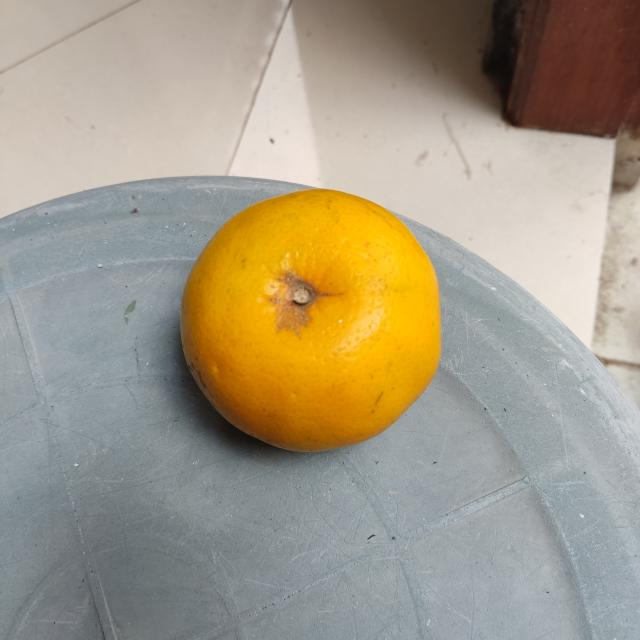orange: (176, 185, 444, 463)
